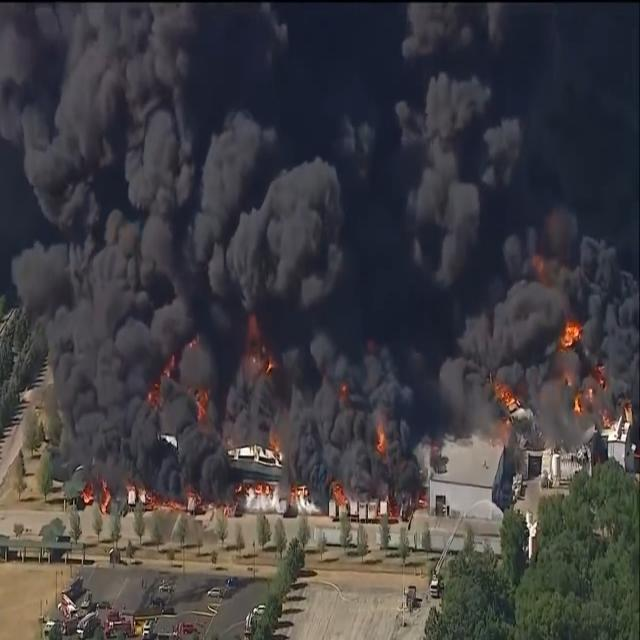Fire: (77, 478, 409, 518), (150, 334, 212, 431), (568, 366, 614, 428), (237, 322, 276, 378), (490, 376, 522, 431), (557, 319, 587, 357), (528, 250, 552, 290), (374, 421, 391, 464), (267, 424, 286, 459)
Smoke: (0, 0, 430, 500), (421, 1, 640, 446)
